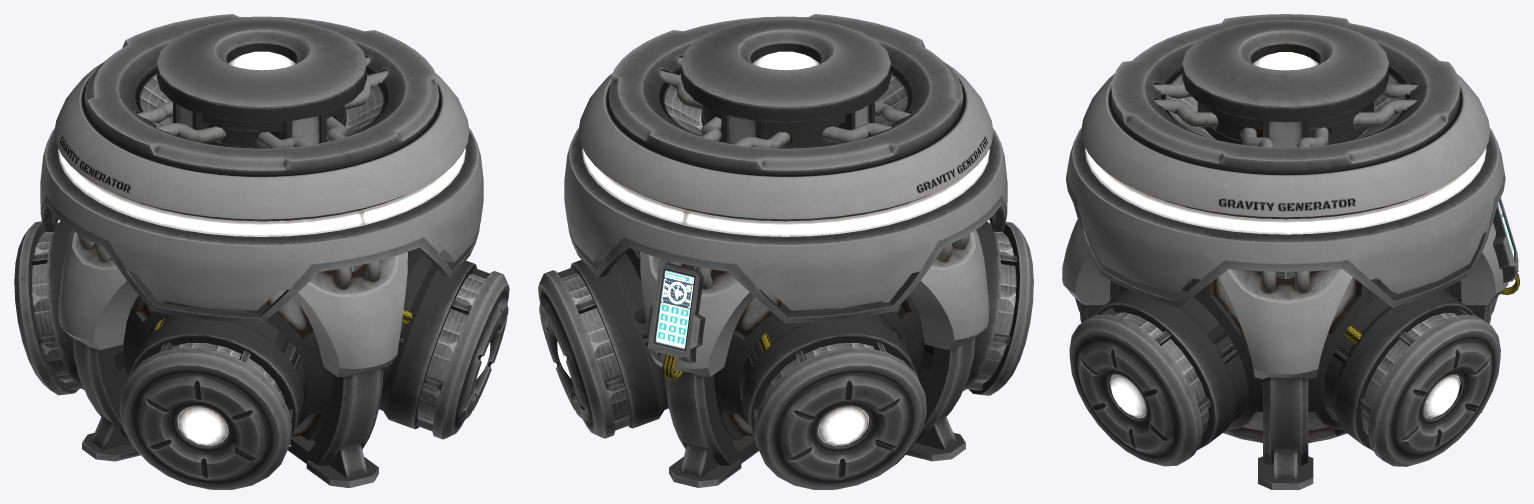
File: gravity-generator.gltf
3 renders of one model, left to right at view 1: azimuth 30°, elevation 25°; view 2: azimuth 150°, elevation 25°; view 3: azimuth 270°, elevation 25°, orthographic.
Parts seen in each view (by area): view 1: gravity_generator_gravity_generator_mat_0; view 2: gravity_generator_gravity_generator_mat_0; view 3: gravity_generator_gravity_generator_mat_0.
Boxes of the visible parts, x1,y1,x2,y2 form: gravity_generator_gravity_generator_mat_0: [14, 14, 509, 489]; gravity_generator_gravity_generator_mat_0: [538, 14, 1033, 489]; gravity_generator_gravity_generator_mat_0: [1062, 14, 1519, 489].
Bounding box in the file's own units: 2.1 × 1.85 × 2.15.
1 material, 1 textured.
